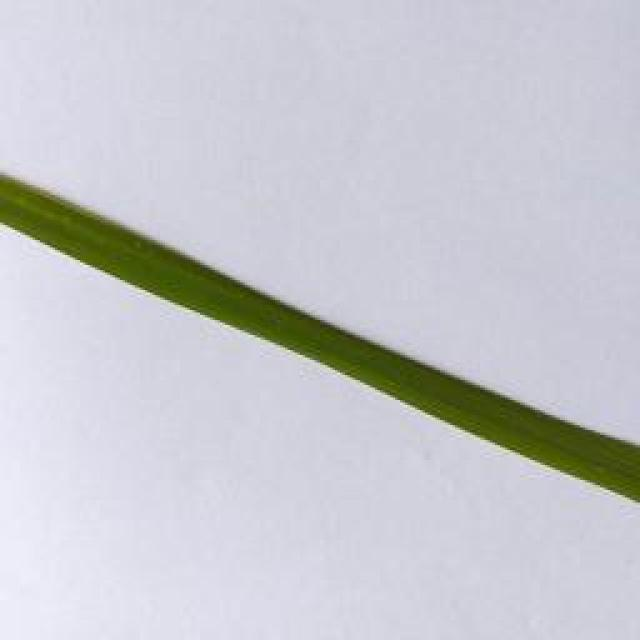Healthy-Plant: (0, 174, 640, 503)
